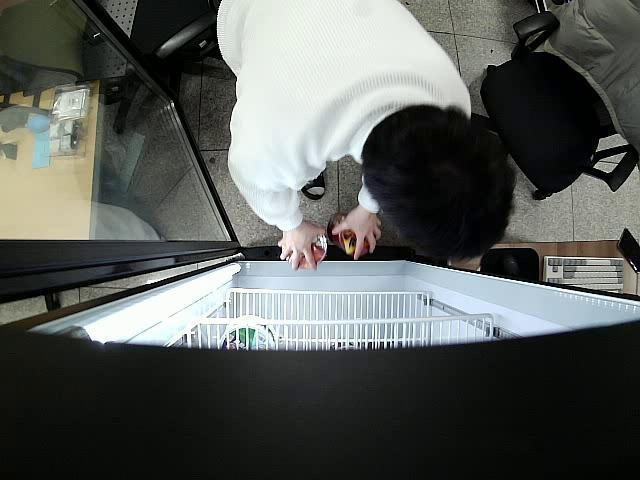05_nuguri_L: (330, 216, 373, 258), (286, 234, 327, 269)
